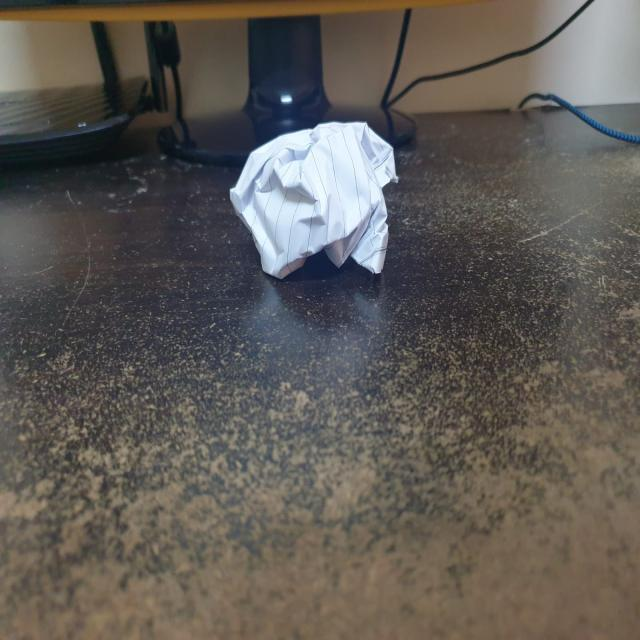Paper: (234, 122, 396, 274)
